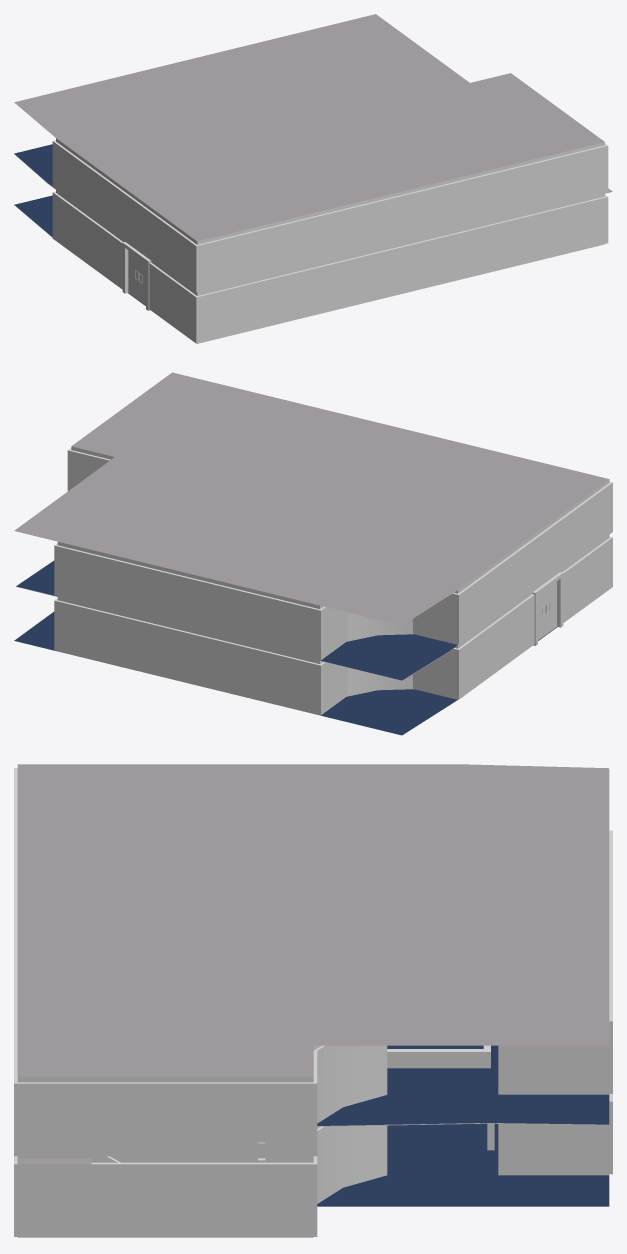
File: first level.fbx
3 renders of one model, top to bottom at view 1: azimuth 30°, elevation 25°; view 2: azimuth 150°, elevation 25°; view 3: azimuth 270°, elevation 25°, orthographic. The views are drawn at different scales.
Parts seen in each view (by area): view 1: vloer, muren; view 2: vloer, muren; view 3: vloer, muren.
Boxes of the visible parts, x1=… form: vloer: x1=14, y1=14, x2=612, y2=305; muren: x1=52, y1=138, x2=608, y2=343; vloer: x1=14, y1=372, x2=609, y2=735; muren: x1=54, y1=446, x2=612, y2=715; vloer: x1=17, y1=764, x2=609, y2=1206; muren: x1=14, y1=768, x2=612, y2=1237.
Size of the model in its own units: 2535 by 2000 by 600.
